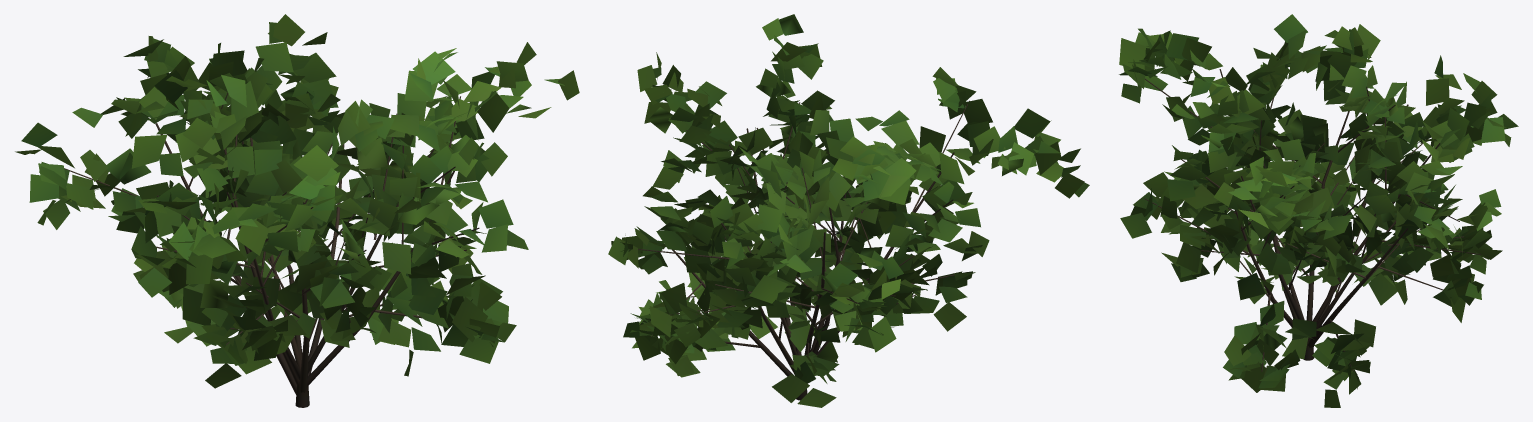
Rendered from bush-hazel-a.lod0.glb.
The picture shows the model from 3 angles, left to right: view 1: azimuth 30°, elevation 25°; view 2: azimuth 150°, elevation 25°; view 3: azimuth 270°, elevation 25°; orthographic projection. The views are drawn at different scales.
Visible parts, largest first — view 1: bush-hazel-a.lod0; view 2: bush-hazel-a.lod0; view 3: bush-hazel-a.lod0.
Part boxes in pixels (bbox=[...]): bush-hazel-a.lod0: bbox=[15, 14, 579, 407]; bush-hazel-a.lod0: bbox=[608, 14, 1089, 407]; bush-hazel-a.lod0: bbox=[1119, 14, 1518, 407].
Bounding box in the file's own units: 2.77 × 2.11 × 2.38.
